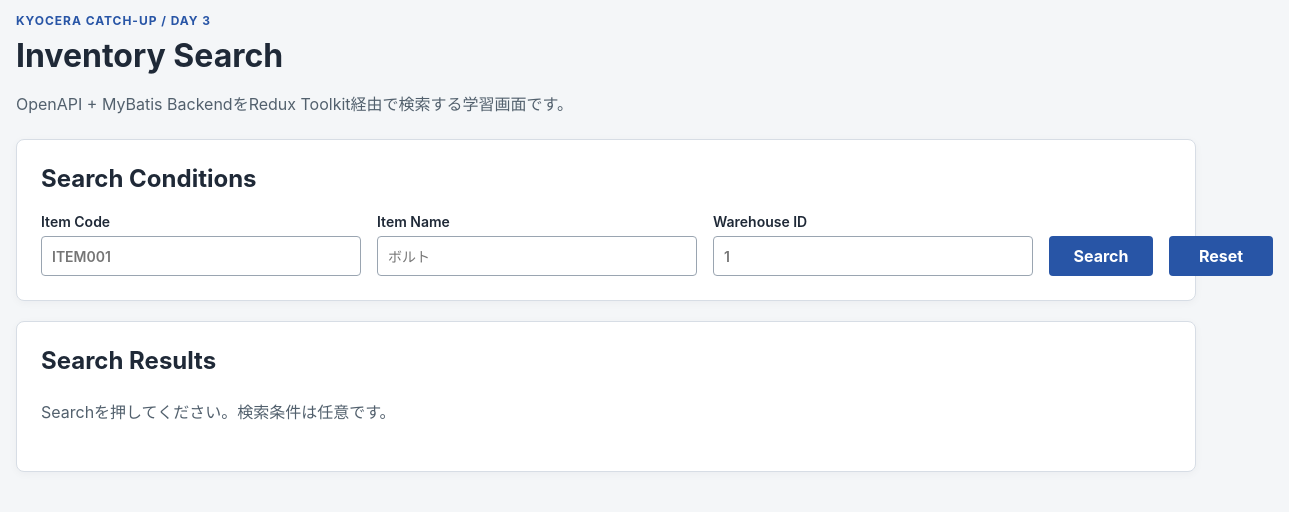
Test case: InventoryPage › shows an error message when submit wrong warehouseId
Step 1. Type "abc" into the field labelled "Warehouse ID" → (873, 256), box [713, 236, 1033, 276]
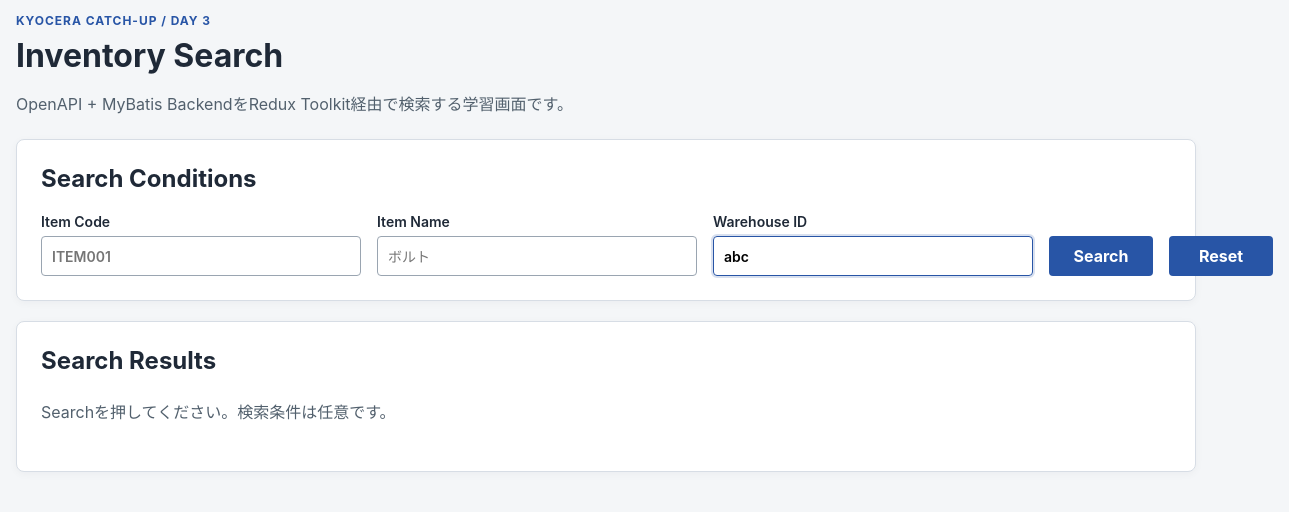
Step 2. Click the button "Search" → (1101, 256), box [1049, 236, 1153, 276]
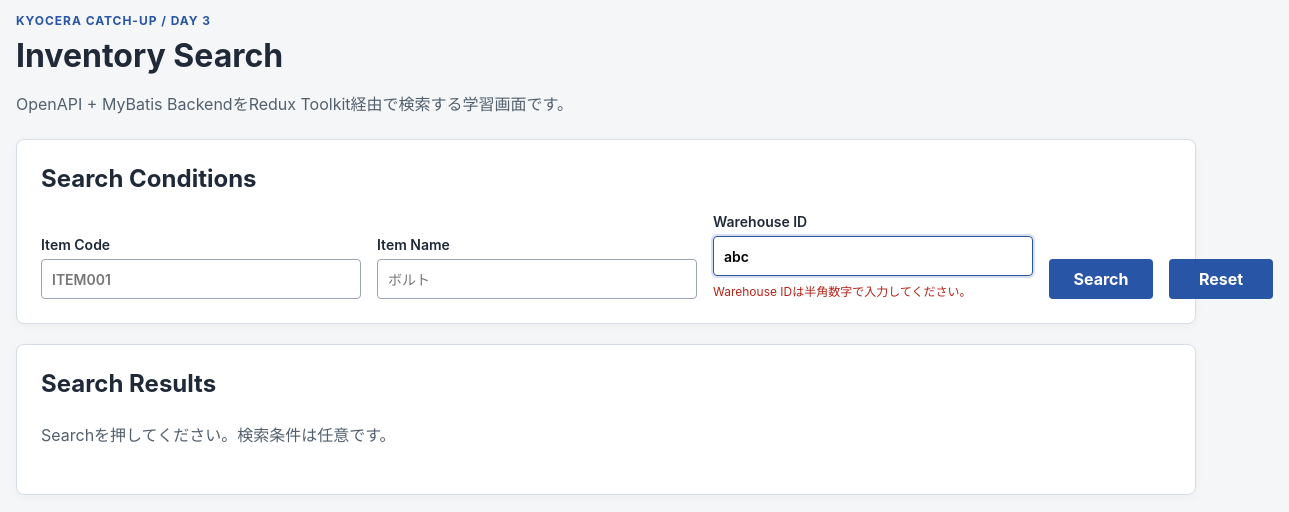
Check: the text "Warehouse IDは半角数字で入力してください。" is shown, box [713, 284, 972, 299]
